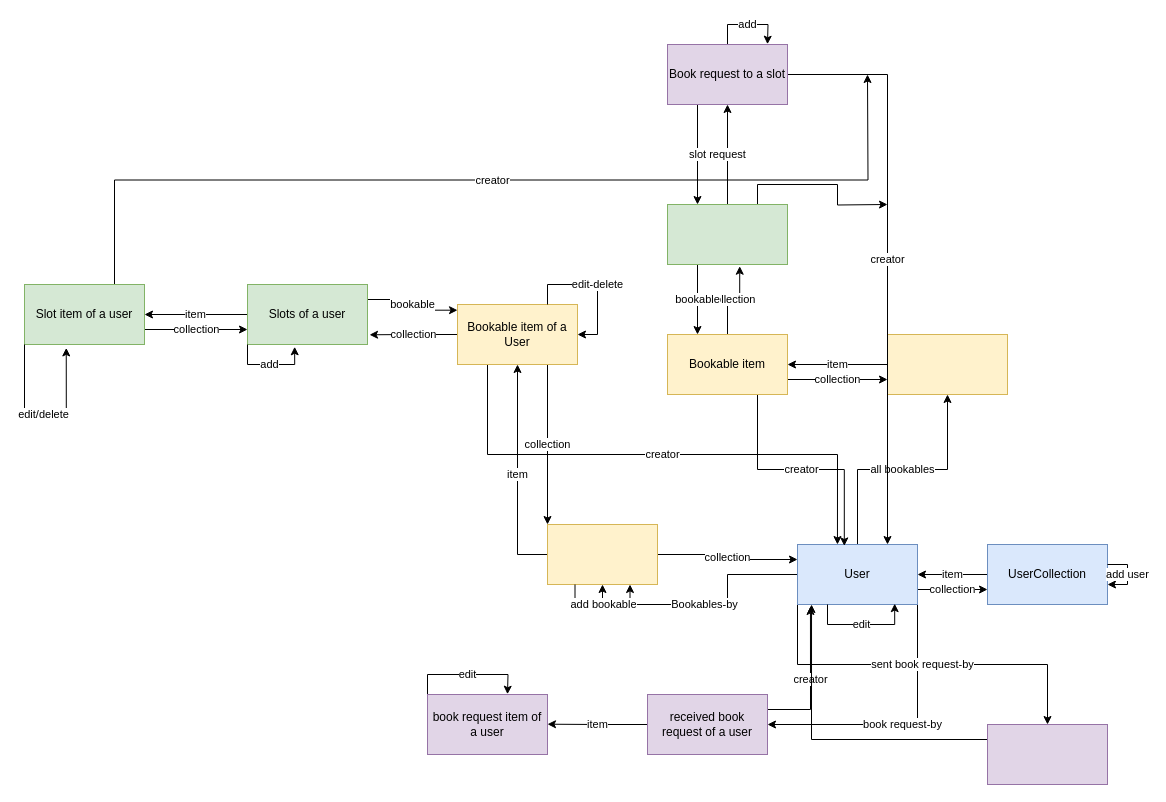
Some shapes in this 1166 by 802 pixel diagram are drawn without their labels. Here are the shapes that lost their labels. From the top down, the centre of each, then its label:
point 727,234: Slot collection of bookable
point 947,364: Bookable collection
point 602,554: Bookables of a User
point 1047,754: sent book request of a user
